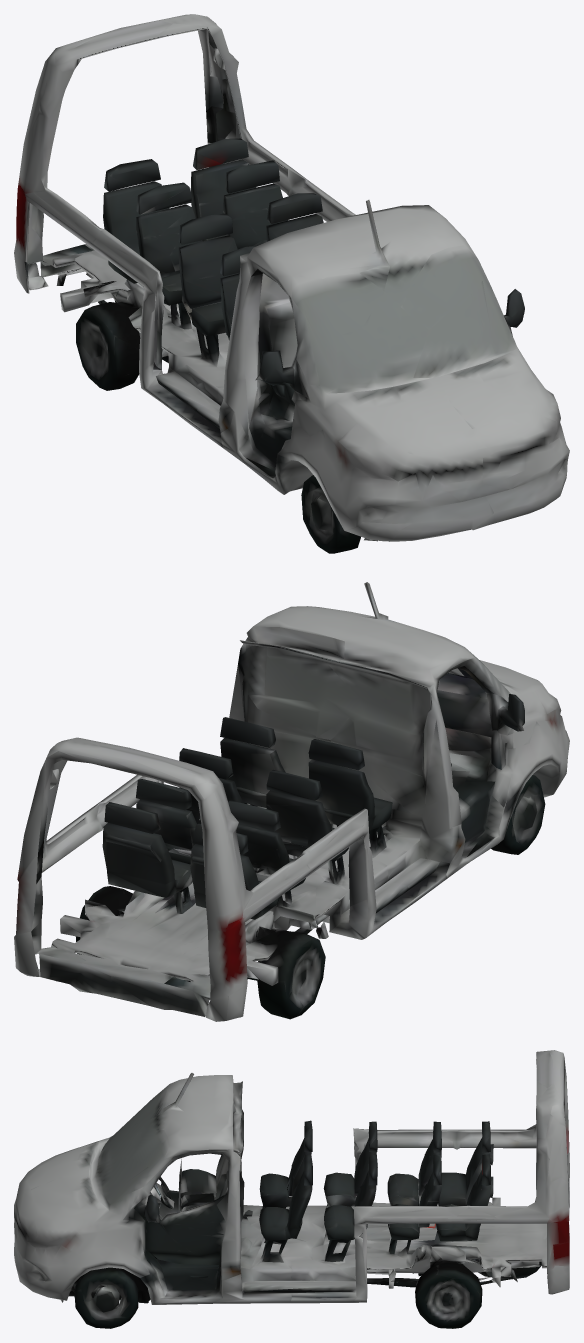
Rendered from suttle_bus_1.glb.
3 views of the same model, one above another, from view 1: azimuth 30°, elevation 25°; view 2: azimuth 150°, elevation 25°; view 3: azimuth 270°, elevation 25° (orthographic). The views are drawn at different scales.
Parts seen in each view (by area): view 1: tripo_node_5ab090f9; view 2: tripo_node_5ab090f9; view 3: tripo_node_5ab090f9.
Boxes of the visible parts, x1=… form: tripo_node_5ab090f9: x1=14, y1=14, x2=569, y2=553; tripo_node_5ab090f9: x1=14, y1=582, x2=569, y2=1021; tripo_node_5ab090f9: x1=14, y1=1050, x2=569, y2=1328.
Size of the model in its own units: 42.84 by 43.5 by 99.96.
1 material, 1 textured.
